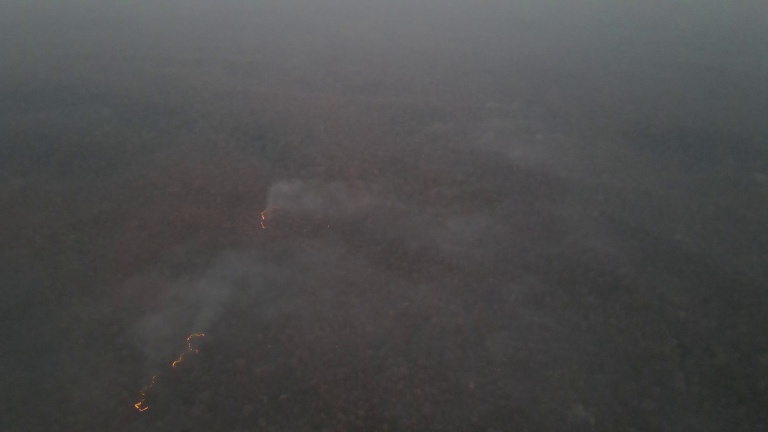fire: (134, 330, 207, 413), (257, 205, 276, 232)
smoke: (145, 249, 300, 366), (261, 175, 352, 219)
